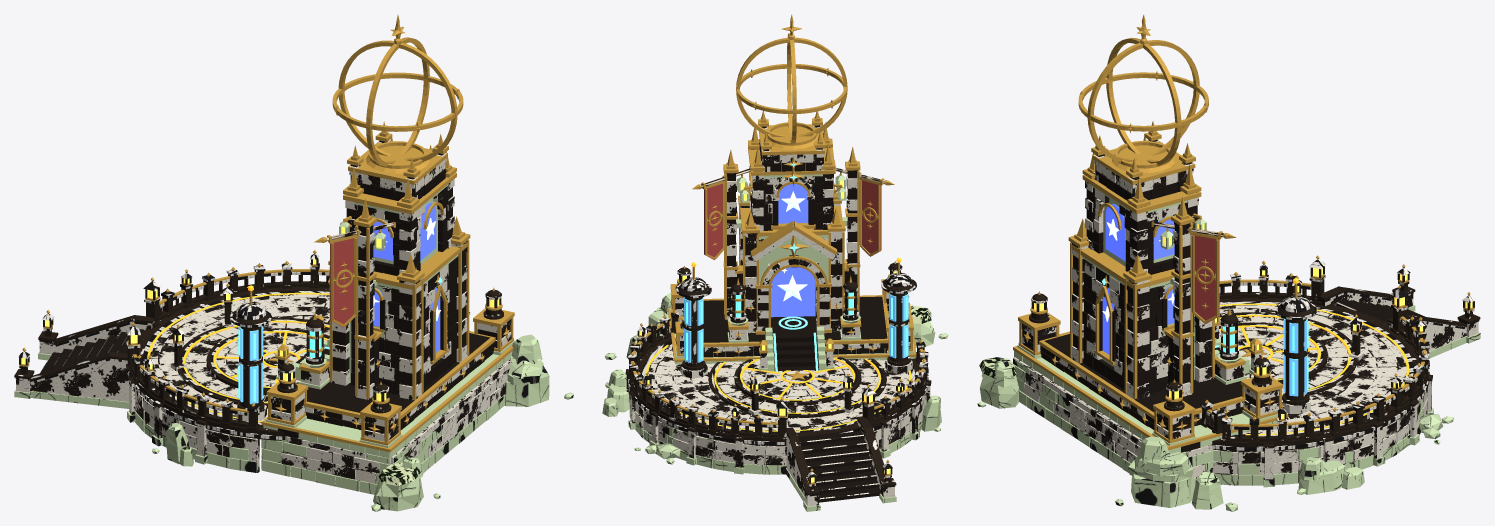
The model's file is ILHA2_06_SUMMON_1d00de.fbx.
The picture shows the model from 3 angles, left to right: view 1: azimuth 30°, elevation 25°; view 2: azimuth 150°, elevation 25°; view 3: azimuth 270°, elevation 25°; orthographic projection. The views are drawn at different scales.
Parts seen in each view (by area): view 1: DB_Sum_Tower_Gold__Metal_Gold, DB_Sum_Tower_Stone__Stone_DB_Block, DB_Sum_Tower_Stone__Stone_Paving_DB, DB_Sum_Platform__Stone_DB_Block_B, DB_Sum_Dressing__Plaster_DB_White, DB_Sum_Platform__Cliff_Rock_DB, DB_Sum_Platform__Plaster_DB_White, DB_Sum_Tower_Stone__Cliff_Rock_DB_Dark, DB_Sum_Platform__Stone_Paving_DB, DB_Sum_Platform__Stone_DB_Block, DB_Sum_Platform__Cliff_Rock_DB_B, DB_Sum_Dressing__Roof_DB_Blue (+13 smaller); view 2: DB_Sum_Tower_Gold__Metal_Gold, DB_Sum_Tower_Stone__Stone_DB_Block, DB_Sum_Platform__Stone_Paving_DB, DB_Sum_Tower_Stone__Stone_Paving_DB, DB_Sum_Dressing__Plaster_DB_White, DB_Sum_Platform__Stone_DB_Block_B, DB_Sum_Platform__Plaster_DB_White, DB_Sum_Tower_Stone__Cliff_Rock_DB_Dark, DB_Sum_Dressing__Roof_DB_Blue, DB_Sum_Platform__Stone_Paving_DB_B, DB_Sum_Tower_Glow__Crystal_SumPortal_Glow, DB_Sum_Platform__Cliff_Rock_DB (+16 smaller); view 3: DB_Sum_Tower_Gold__Metal_Gold, DB_Sum_Tower_Stone__Stone_DB_Block, DB_Sum_Tower_Stone__Stone_Paving_DB, DB_Sum_Dressing__Plaster_DB_White, DB_Sum_Platform__Stone_DB_Block_B, DB_Sum_Platform__Cliff_Rock_DB, DB_Sum_Platform__Stone_Paving_DB, DB_Sum_Platform__Plaster_DB_White, DB_Sum_Platform__Stone_DB_Block, DB_Sum_Platform__Cliff_Rock_DB_B, DB_Sum_Tower_Stone__Cliff_Rock_DB_Dark, DB_Sum_Dressing__Roof_DB_Blue (+12 smaller).
Boxes of the visible parts, left/top/right/bottom form: DB_Sum_Tower_Gold__Metal_Gold: left=261, top=15, right=514, bottom=452; DB_Sum_Tower_Stone__Stone_DB_Block: left=271, top=140, right=510, bottom=438; DB_Sum_Tower_Stone__Stone_Paving_DB: left=271, top=141, right=511, bottom=441; DB_Sum_Platform__Stone_DB_Block_B: left=16, top=294, right=507, bottom=474; DB_Sum_Dressing__Plaster_DB_White: left=127, top=269, right=501, bottom=427; DB_Sum_Platform__Cliff_Rock_DB: left=135, top=349, right=573, bottom=511; DB_Sum_Platform__Plaster_DB_White: left=14, top=287, right=329, bottom=440; DB_Sum_Tower_Stone__Cliff_Rock_DB_Dark: left=263, top=184, right=514, bottom=458; DB_Sum_Platform__Stone_Paving_DB: left=39, top=294, right=329, bottom=417; DB_Sum_Platform__Stone_DB_Block: left=129, top=334, right=511, bottom=485; DB_Sum_Platform__Cliff_Rock_DB_B: left=144, top=366, right=549, bottom=483; DB_Sum_Dressing__Roof_DB_Blue: left=126, top=221, right=501, bottom=415; DB_Sum_Tower_Gold__Metal_Gold: left=668, top=14, right=916, bottom=362; DB_Sum_Tower_Stone__Stone_DB_Block: left=669, top=125, right=910, bottom=371; DB_Sum_Platform__Stone_Paving_DB: left=649, top=350, right=907, bottom=502; DB_Sum_Tower_Stone__Stone_Paving_DB: left=672, top=125, right=910, bottom=368; DB_Sum_Dressing__Plaster_DB_White: left=629, top=262, right=927, bottom=437; DB_Sum_Platform__Stone_DB_Block_B: left=626, top=344, right=930, bottom=506; DB_Sum_Platform__Plaster_DB_White: left=625, top=332, right=931, bottom=495; DB_Sum_Tower_Stone__Cliff_Rock_DB_Dark: left=670, top=154, right=915, bottom=371; DB_Sum_Dressing__Roof_DB_Blue: left=628, top=265, right=928, bottom=427; DB_Sum_Platform__Stone_Paving_DB_B: left=649, top=345, right=907, bottom=462; DB_Sum_Tower_Glow__Crystal_SumPortal_Glow: left=771, top=184, right=815, bottom=317; DB_Sum_Platform__Cliff_Rock_DB: left=605, top=304, right=940, bottom=474; DB_Sum_Tower_Gold__Metal_Gold: left=1013, top=14, right=1288, bottom=450; DB_Sum_Tower_Stone__Stone_DB_Block: left=1022, top=139, right=1278, bottom=452; DB_Sum_Tower_Stone__Stone_Paving_DB: left=1021, top=140, right=1278, bottom=439; DB_Sum_Dressing__Plaster_DB_White: left=1031, top=279, right=1428, bottom=442; DB_Sum_Platform__Stone_DB_Block_B: left=1053, top=292, right=1478, bottom=485; DB_Sum_Platform__Cliff_Rock_DB: left=977, top=358, right=1453, bottom=506; DB_Sum_Platform__Stone_Paving_DB: left=1219, top=299, right=1424, bottom=433; DB_Sum_Platform__Plaster_DB_White: left=1212, top=284, right=1480, bottom=451; DB_Sum_Platform__Stone_DB_Block: left=1013, top=328, right=1427, bottom=485; DB_Sum_Platform__Cliff_Rock_DB_B: left=1012, top=364, right=1440, bottom=507; DB_Sum_Tower_Stone__Cliff_Rock_DB_Dark: left=1014, top=186, right=1277, bottom=453; DB_Sum_Dressing__Roof_DB_Blue: left=1031, top=274, right=1429, bottom=430.
Size of the model in its own units: 71.73 by 66.9 by 73.11.
Materials: 15 (6 with a texture image).
